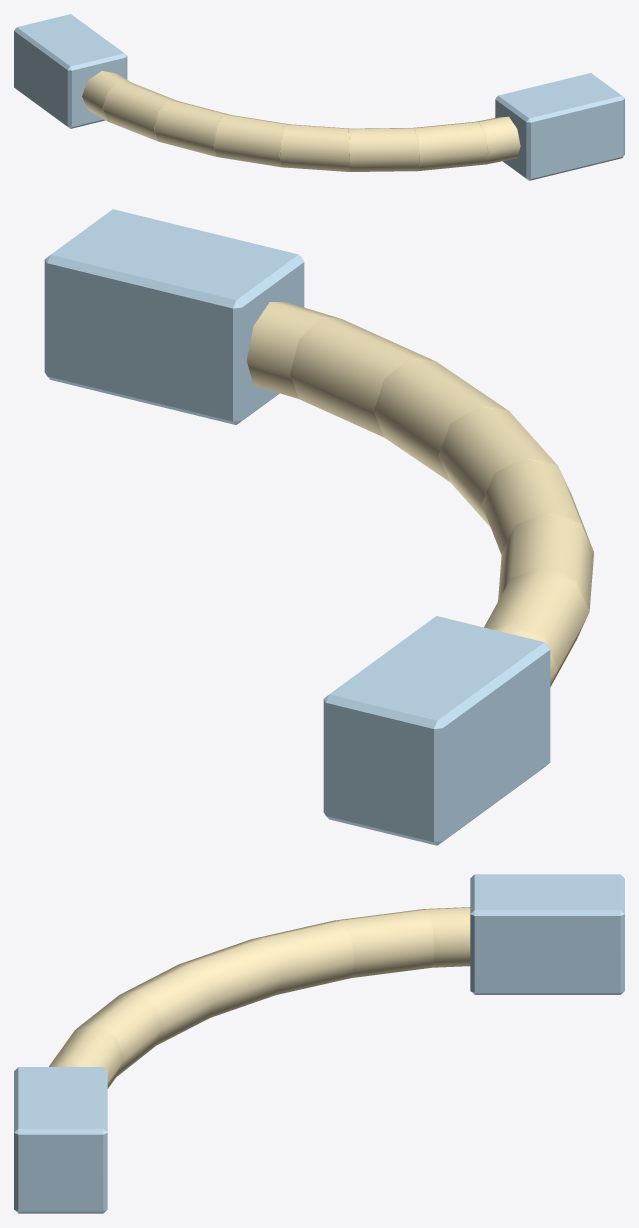
Rendered from R4C_ROD_ARC_LONG_LOD1.glb.
3 renders of one model, top to bottom at view 1: azimuth 30°, elevation 25°; view 2: azimuth 150°, elevation 25°; view 3: azimuth 270°, elevation 25°, orthographic. The views are drawn at different scales.
Parts seen in each view (by area): view 1: R4C_ROD_ARC_LONG_LOD1; view 2: R4C_ROD_ARC_LONG_LOD1; view 3: R4C_ROD_ARC_LONG_LOD1.
Boxes of the visible parts, bbox=[...] form: R4C_ROD_ARC_LONG_LOD1: bbox=[14, 14, 624, 180]; R4C_ROD_ARC_LONG_LOD1: bbox=[44, 209, 593, 845]; R4C_ROD_ARC_LONG_LOD1: bbox=[14, 874, 624, 1213].
Size of the model in its own units: 1.47 by 0.226 by 1.47.
